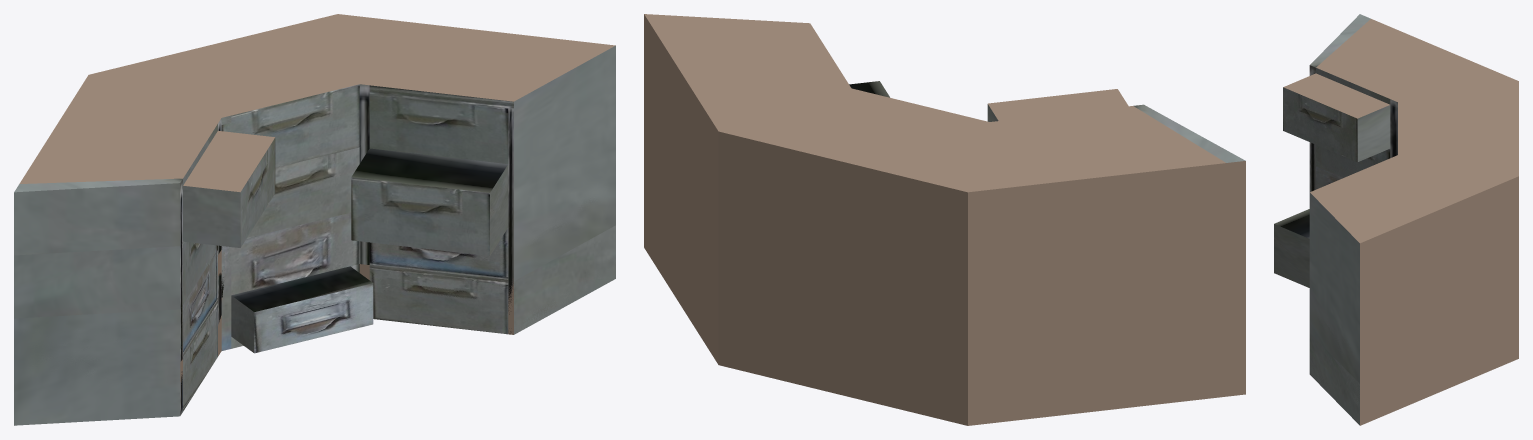
The model's file is Cabinets.fbx.
The picture shows the model from 3 angles, left to right: view 1: azimuth 30°, elevation 25°; view 2: azimuth 150°, elevation 25°; view 3: azimuth 270°, elevation 25°; orthographic projection. The views are drawn at different scales.
Visible parts, largest first — view 1: Circle.027; view 2: Circle.027; view 3: Circle.027.
Part boxes in pixels (<box>): Circle.027: <box>14,14,615,425</box>; Circle.027: <box>644,14,1245,425</box>; Circle.027: <box>1274,14,1518,425</box>.
Size of the model in its own units: 51.7 by 19.18 by 23.32.
